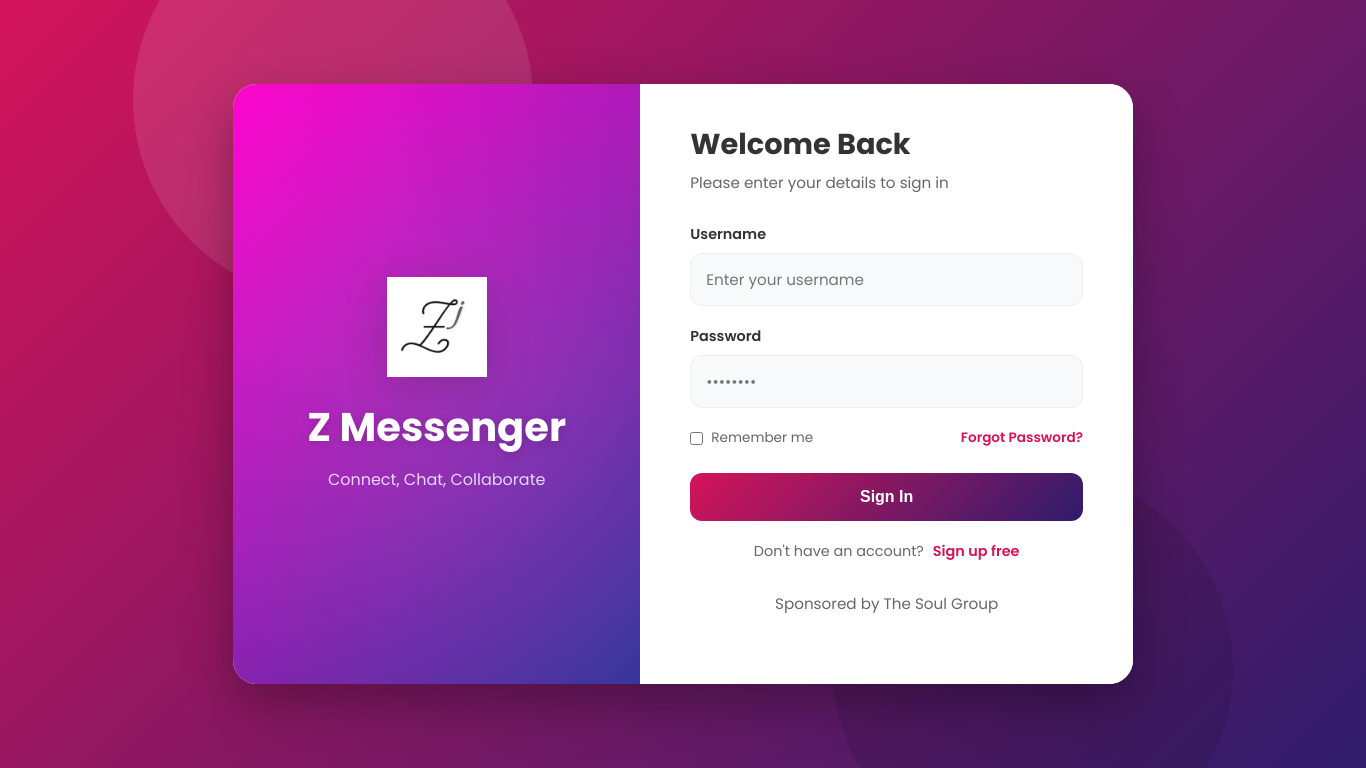
Test: Login › displays loading state while submitting
Fill in and submit form
Type "testuser" into the field labelled "Username" at (887, 280), box [690,253,1083,306]
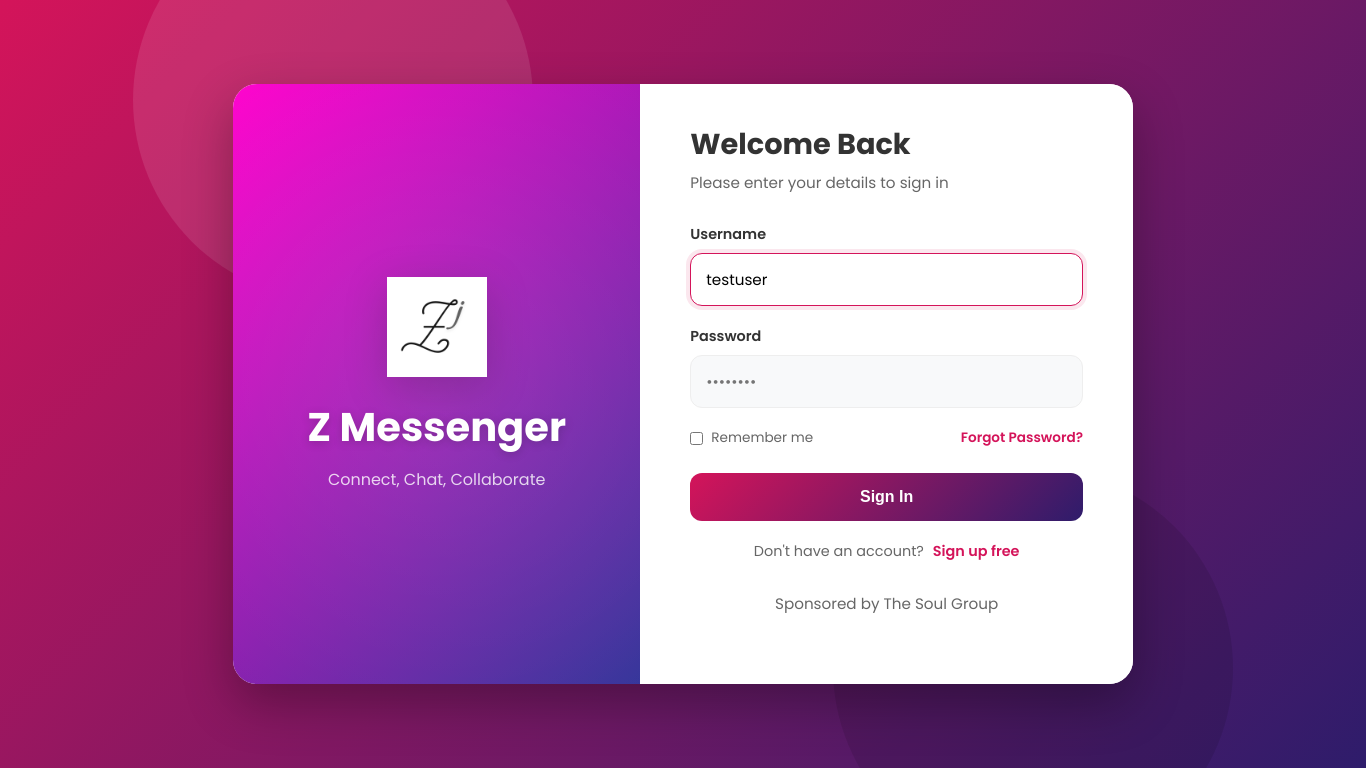
Type "password123" into the password field labelled "Password" at (887, 382), box [690,355,1083,408]
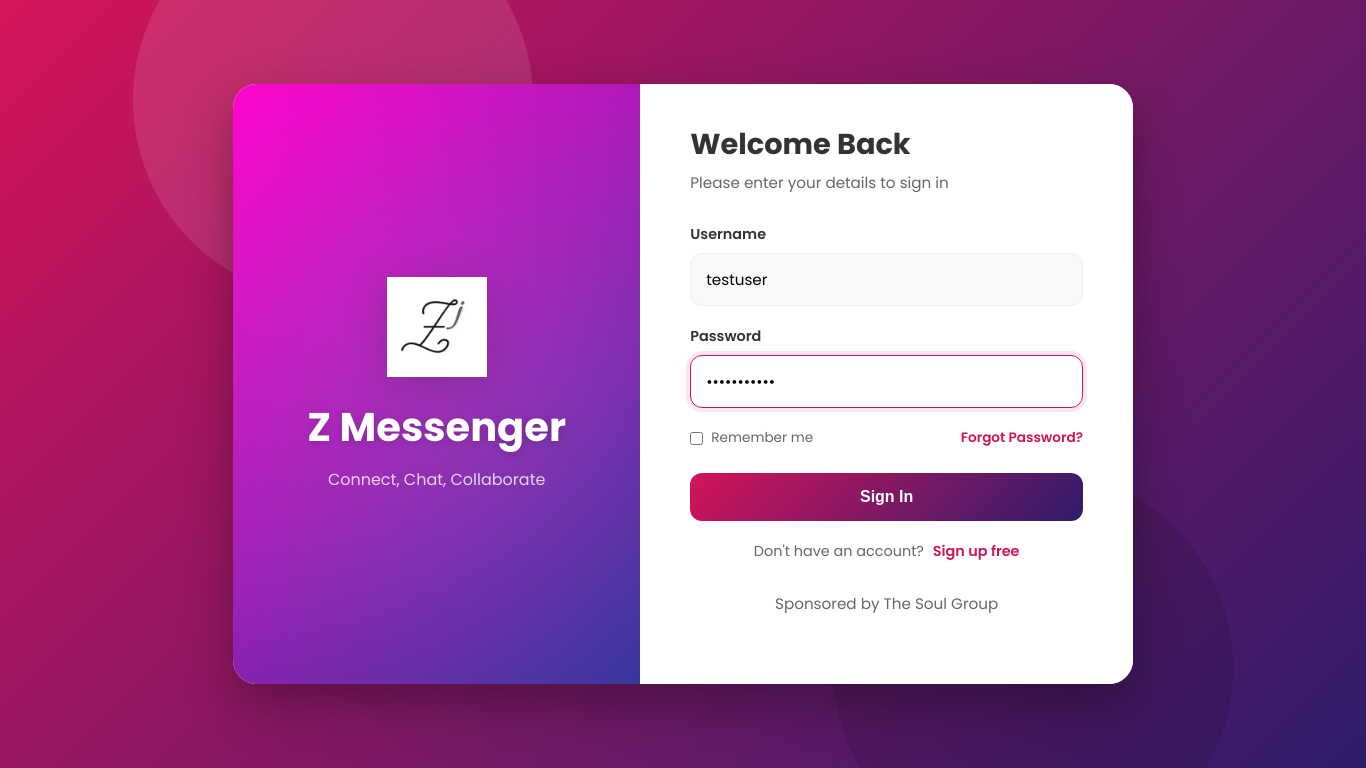
Click the button with aria-label "login" at (887, 497), box [690,473,1083,521]
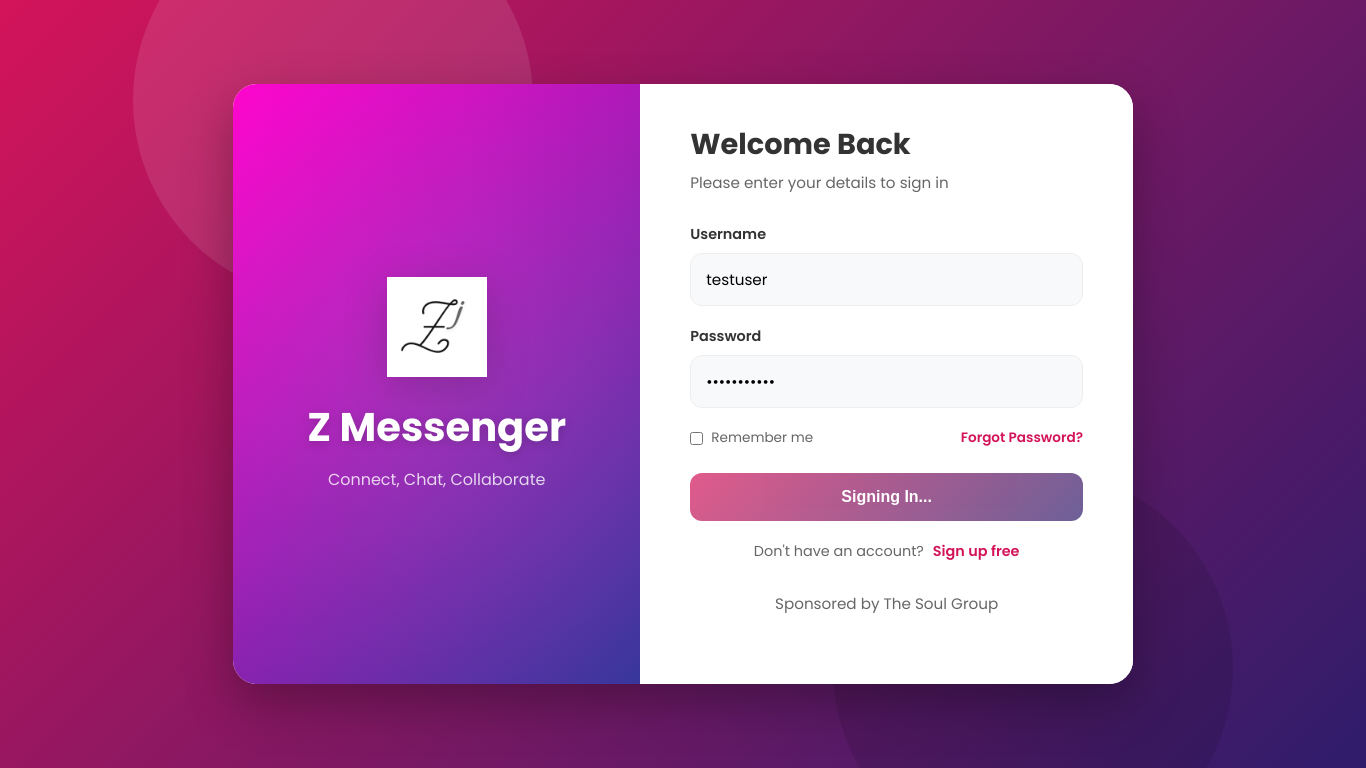
Now the button with aria-label "logging in" is disabled, box [690,473,1083,521]
